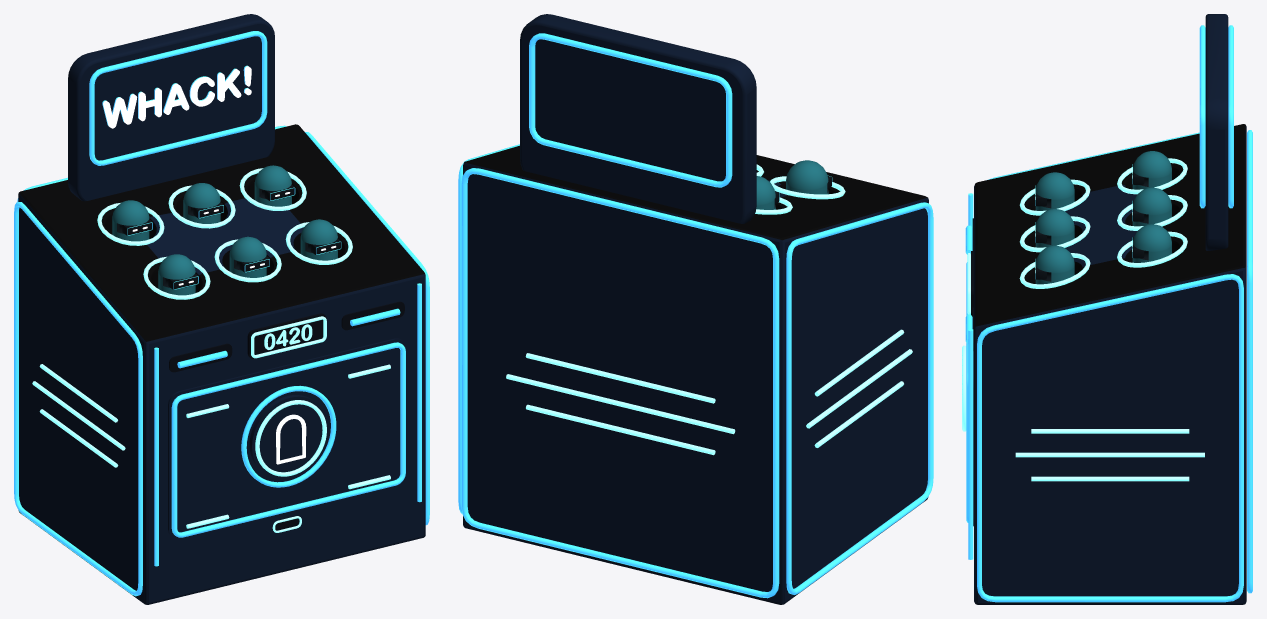
File: NH_Arcade_Hammer_1_1.fbx
3 renders of one model, left to right at view 1: azimuth 30°, elevation 25°; view 2: azimuth 150°, elevation 25°; view 3: azimuth 270°, elevation 25°, orthographic. The views are drawn at different scales.
Visible parts, largest first — view 1: Arcade_Hammer_1_1, Arcade_Hammer_Mole_1_3, Arcade_Hammer_Mole_1_6, Arcade_Hammer_Mole_1_1, Arcade_Hammer_Mole_1_4, Arcade_Hammer_Mole_1_5, Arcade_Hammer_Mole_1_2; view 2: Arcade_Hammer_1_1, Arcade_Hammer_Mole_1_4, Arcade_Hammer_Mole_1_1; view 3: Arcade_Hammer_1_1, Arcade_Hammer_Mole_1_2, Arcade_Hammer_Mole_1_1, Arcade_Hammer_Mole_1_3, Arcade_Hammer_Mole_1_6, Arcade_Hammer_Mole_1_5, Arcade_Hammer_Mole_1_4.
Part boxes in pixels (x1=…): Arcade_Hammer_1_1: x1=14, y1=14, x2=429, y2=604; Arcade_Hammer_Mole_1_3: x1=254, y1=165, x2=295, y2=206; Arcade_Hammer_Mole_1_6: x1=300, y1=219, x2=341, y2=260; Arcade_Hammer_Mole_1_1: x1=112, y1=200, x2=152, y2=241; Arcade_Hammer_Mole_1_4: x1=158, y1=254, x2=198, y2=295; Arcade_Hammer_Mole_1_5: x1=229, y1=236, x2=269, y2=277; Arcade_Hammer_Mole_1_2: x1=183, y1=183, x2=223, y2=223; Arcade_Hammer_1_1: x1=458, y1=14, x2=933, y2=604; Arcade_Hammer_Mole_1_4: x1=786, y1=160, x2=832, y2=194; Arcade_Hammer_Mole_1_1: x1=756, y1=176, x2=779, y2=209; Arcade_Hammer_1_1: x1=962, y1=14, x2=1252, y2=604; Arcade_Hammer_Mole_1_2: x1=1132, y1=187, x2=1171, y2=226; Arcade_Hammer_Mole_1_1: x1=1132, y1=151, x2=1171, y2=189; Arcade_Hammer_Mole_1_3: x1=1132, y1=224, x2=1171, y2=262; Arcade_Hammer_Mole_1_6: x1=1035, y1=245, x2=1074, y2=284; Arcade_Hammer_Mole_1_5: x1=1035, y1=209, x2=1074, y2=247; Arcade_Hammer_Mole_1_4: x1=1035, y1=172, x2=1074, y2=210.
Size of the model in its own units: 1.14 by 1.68 by 0.929.
